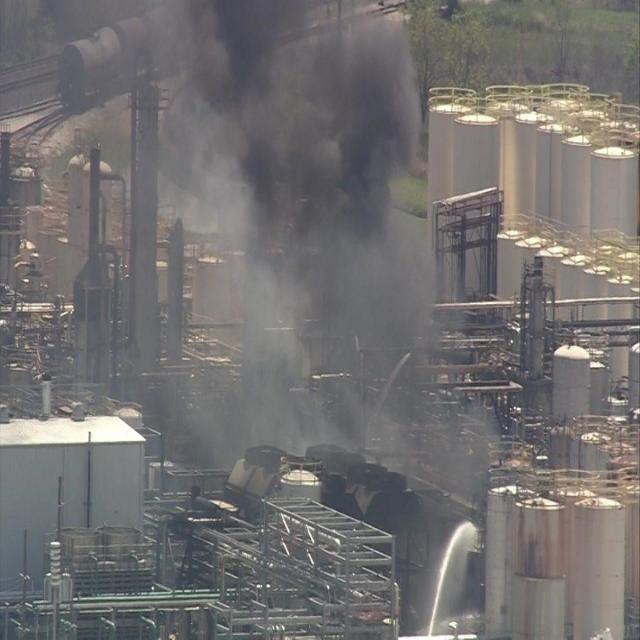Smoke: (156, 1, 499, 499)
